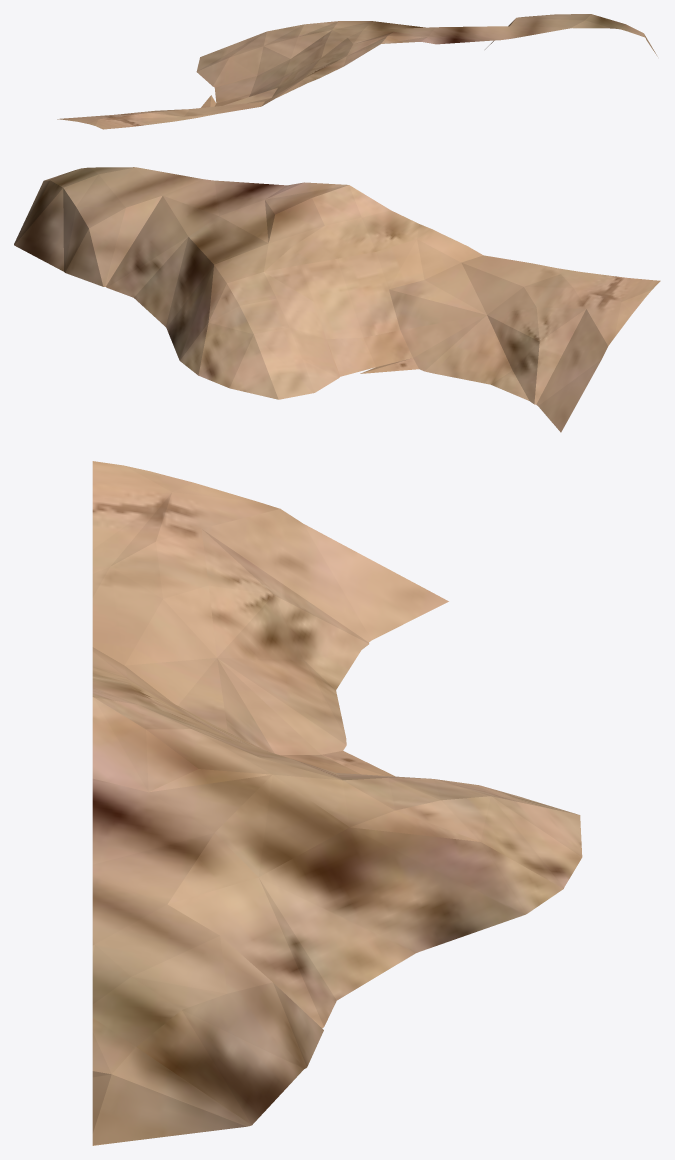
3 renders of one model, top to bottom at view 1: azimuth 30°, elevation 25°; view 2: azimuth 150°, elevation 25°; view 3: azimuth 270°, elevation 25°, orthographic. The views are drawn at different scales.
Size of the model in its own units: 0.5207 by 0.0784 by 0.1979.
1 material, 1 textured.
